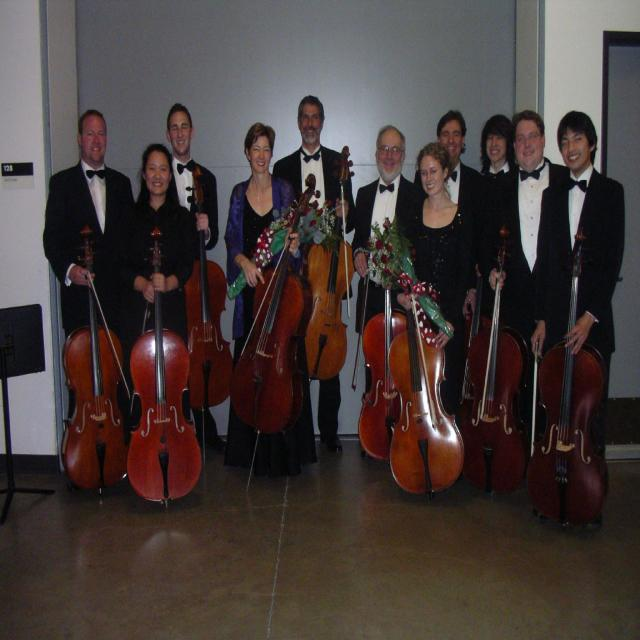cello: (519, 225, 613, 534), (228, 172, 320, 453), (122, 225, 202, 505), (383, 258, 468, 497), (55, 223, 129, 492), (460, 221, 526, 500), (177, 162, 234, 412), (302, 144, 356, 378), (360, 241, 411, 467)
